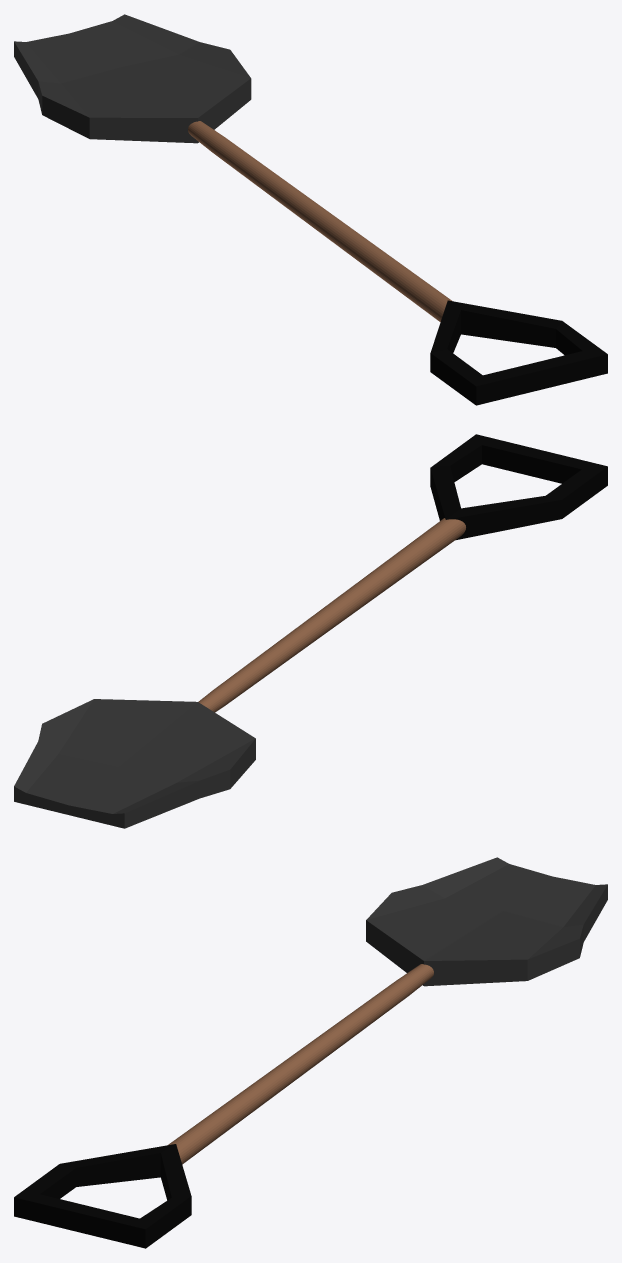
Rendered from Shovel.fbx.
The picture shows the model from 3 angles, top to bottom: view 1: azimuth 30°, elevation 25°; view 2: azimuth 150°, elevation 25°; view 3: azimuth 330°, elevation 25°; orthographic projection.
Visible parts, largest first — view 1: Cilindro; view 2: Cilindro; view 3: Cilindro.
Part boxes in pixels (x1=…): Cilindro: x1=14, y1=14, x2=607, y2=405; Cilindro: x1=14, y1=434, x2=607, y2=828; Cilindro: x1=14, y1=857, x2=607, y2=1248.
Size of the model in its own units: 23.8 by 3.32 by 104.
